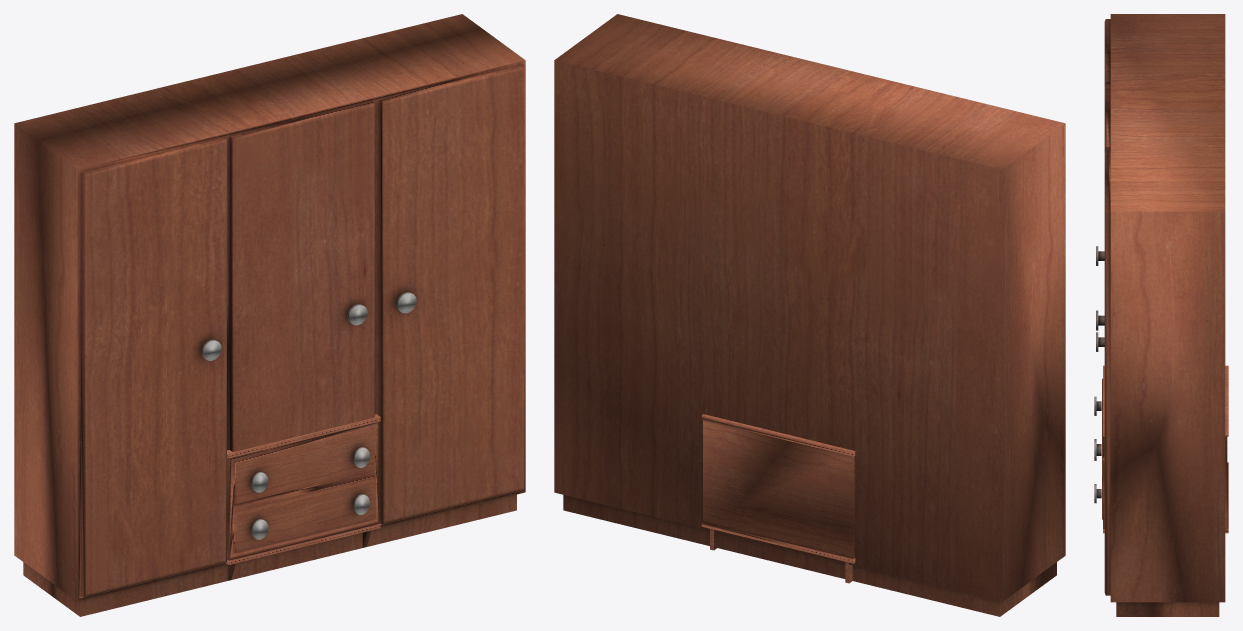
Rendered from ruheraun_schraenke.fbx.
3 renders of one model, left to right at view 1: azimuth 30°, elevation 25°; view 2: azimuth 150°, elevation 25°; view 3: azimuth 270°, elevation 25°, orthographic. The views are drawn at different scales.
Visible parts, largest first — view 1: Mesh_ncl1_1, Mesh; view 2: Mesh_ncl1_1, Mesh; view 3: Mesh_ncl1_1, Mesh.
Boxes of the visible parts, box(x1,y1,x2,y2) form: Mesh_ncl1_1: box(14, 14, 525, 616); Mesh: box(225, 414, 380, 580); Mesh_ncl1_1: box(554, 14, 1065, 616); Mesh: box(701, 414, 855, 583); Mesh_ncl1_1: box(1096, 14, 1225, 616); Mesh: box(1094, 365, 1228, 533).
Size of the model in its own units: 198 by 190 by 56.67.
